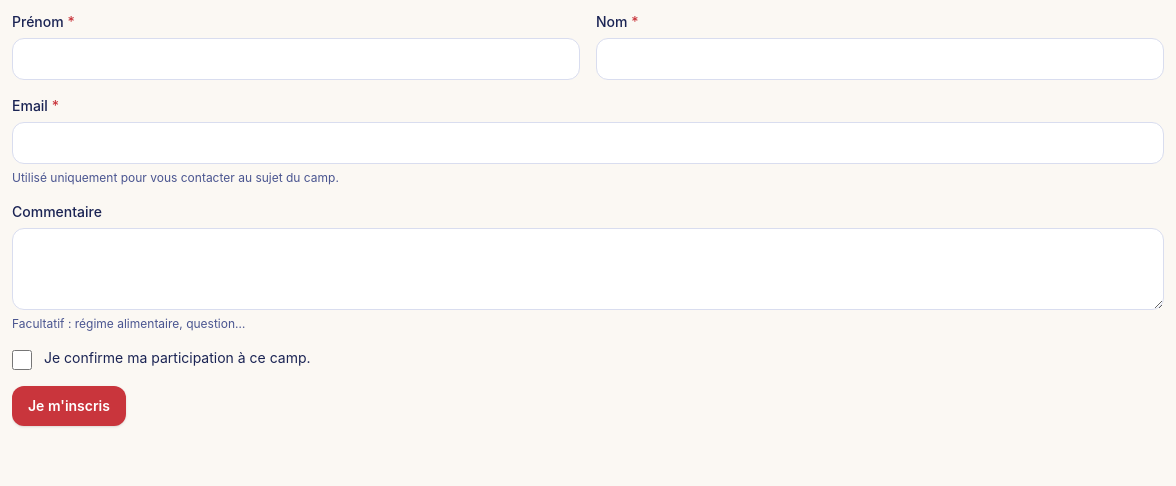
Scenario: RegistrationForm › affiche les erreurs sans appeler l’API si le formulaire est vide
Click the button "Je m'inscris": [69, 406] box x1=12 y1=386 x2=126 y2=426
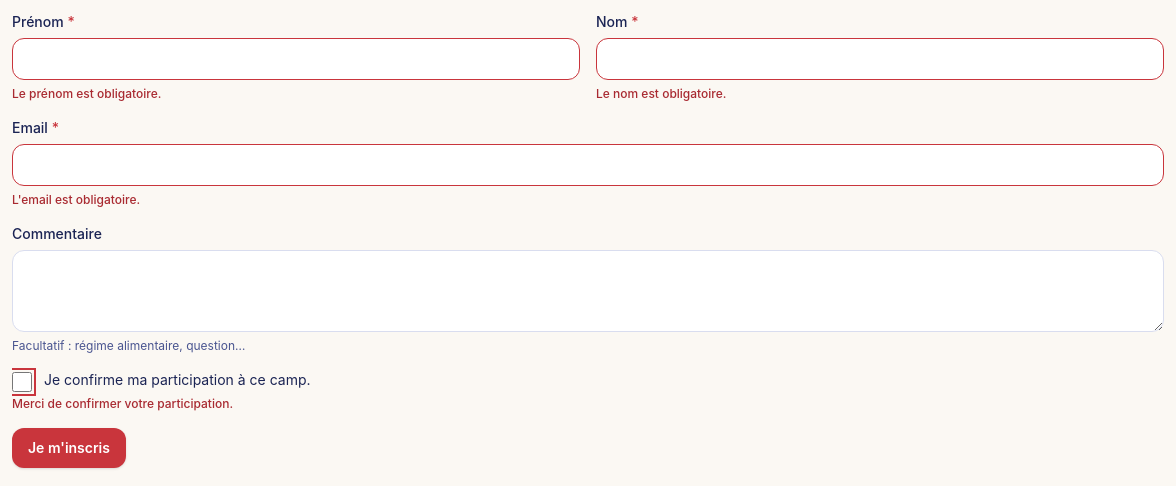
Check: the text "Le prénom est obligatoire." is shown, box x1=12 y1=86 x2=161 y2=101
Check: the text "Merci de confirmer votre participation." is shown, box x1=12 y1=396 x2=233 y2=411
